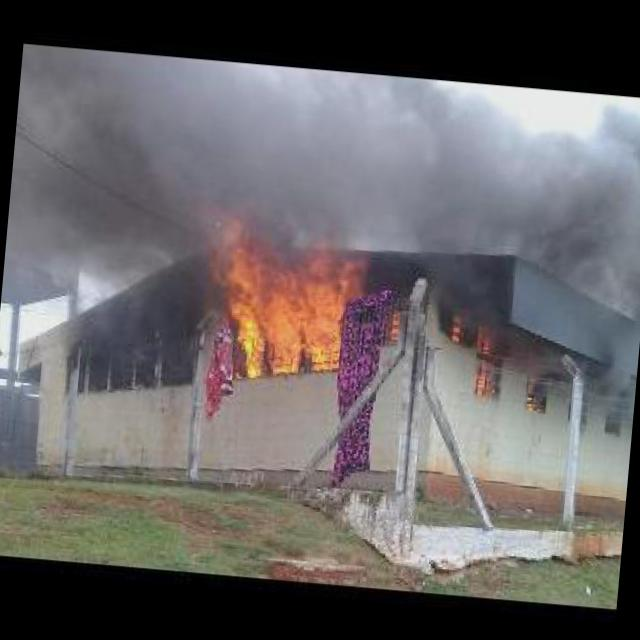fire: (196, 212, 370, 394)
smoke: (5, 56, 640, 298), (575, 257, 640, 407)
